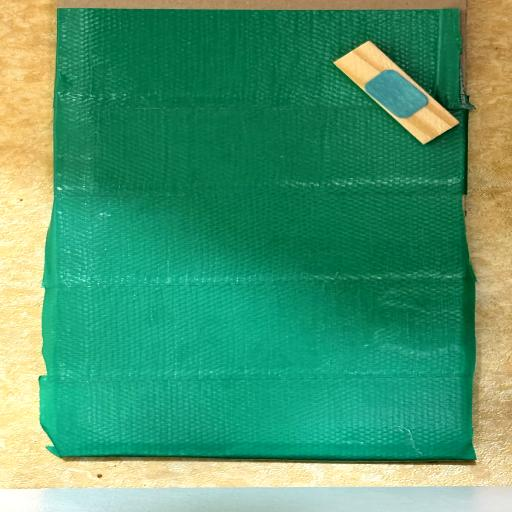objects: (332, 32, 460, 153)
